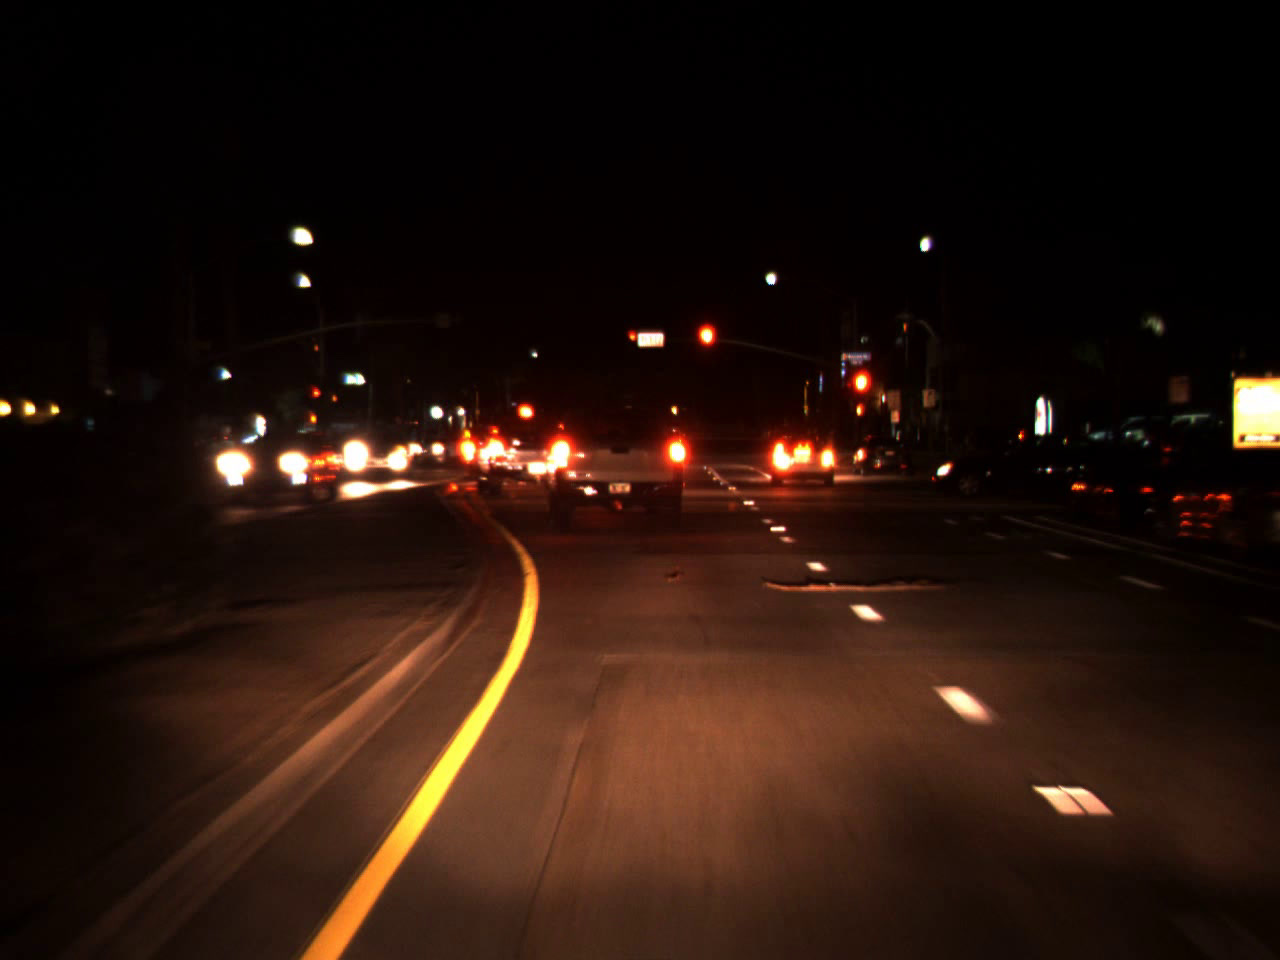stop: (848, 364, 875, 426), (695, 320, 719, 374), (628, 330, 640, 351), (312, 385, 321, 409)
